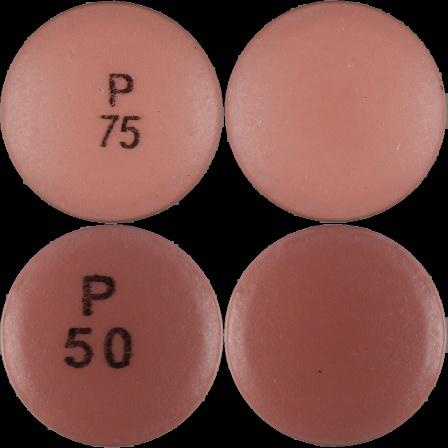10544-933: (0, 0, 224, 224)
